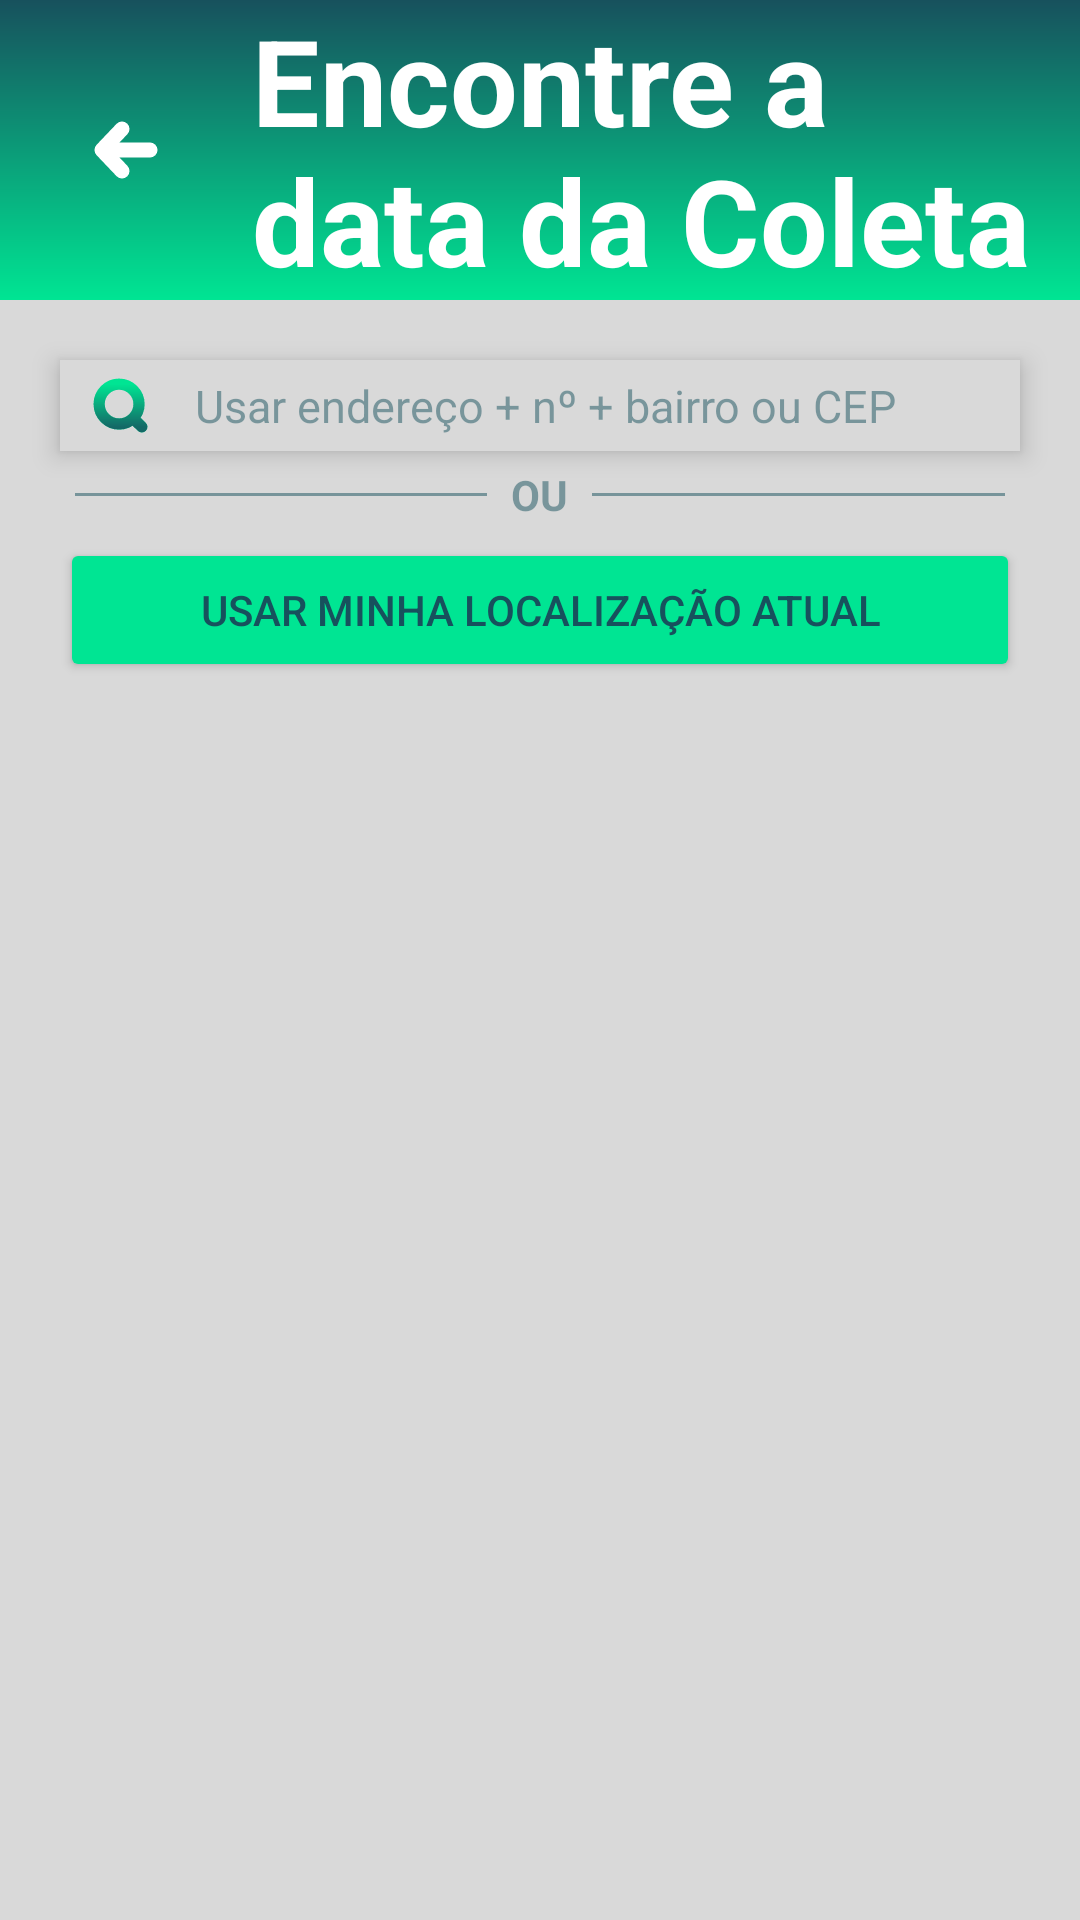

Icons on this 1080 x 1920 Android screen, each with the point to tap as point (x, y):
back: point (126, 150)
search: point (120, 405)
